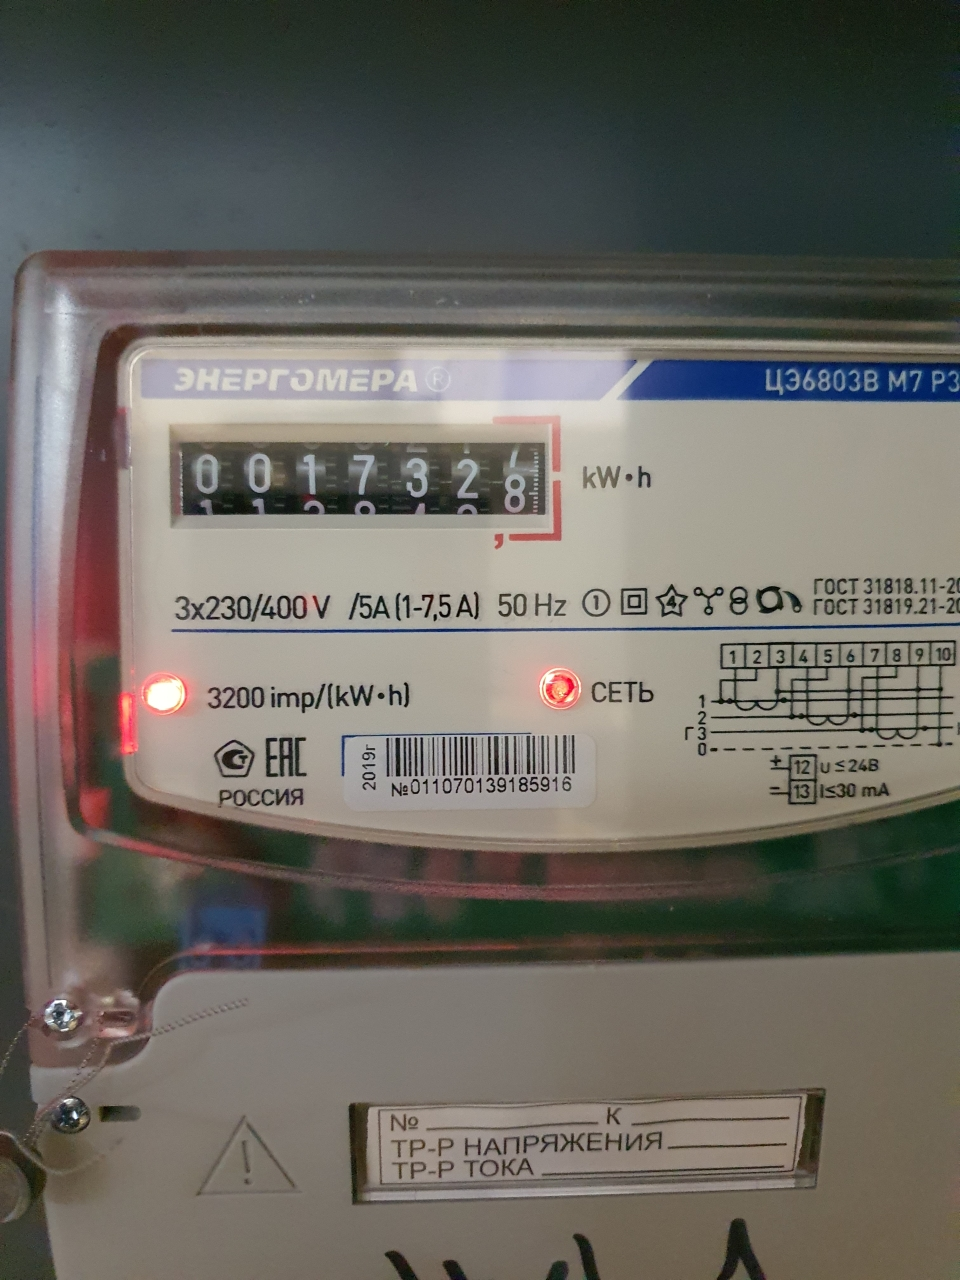0: (191, 452, 223, 496), (245, 449, 274, 494)
1: (301, 450, 321, 496)
2: (452, 456, 481, 501)
3: (403, 455, 430, 499)
7: (350, 452, 376, 498)
8: (501, 472, 527, 514)
screen: (160, 418, 570, 546)
